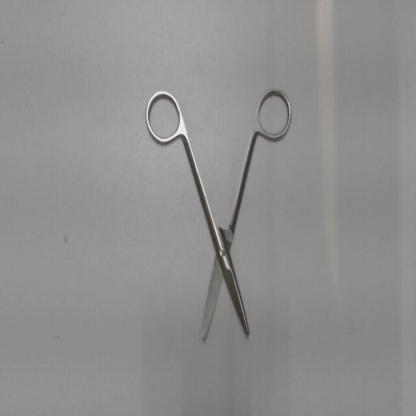Curved Mayo Scissors: (140, 78, 298, 354)
